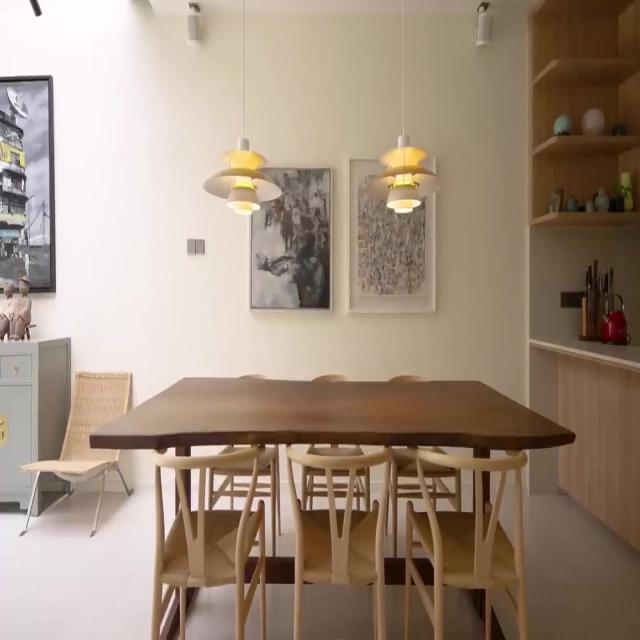obstacle: (89, 374, 575, 638), (404, 446, 528, 639), (151, 448, 267, 639), (285, 444, 390, 639), (18, 370, 134, 537), (0, 335, 71, 514), (300, 373, 368, 512)
